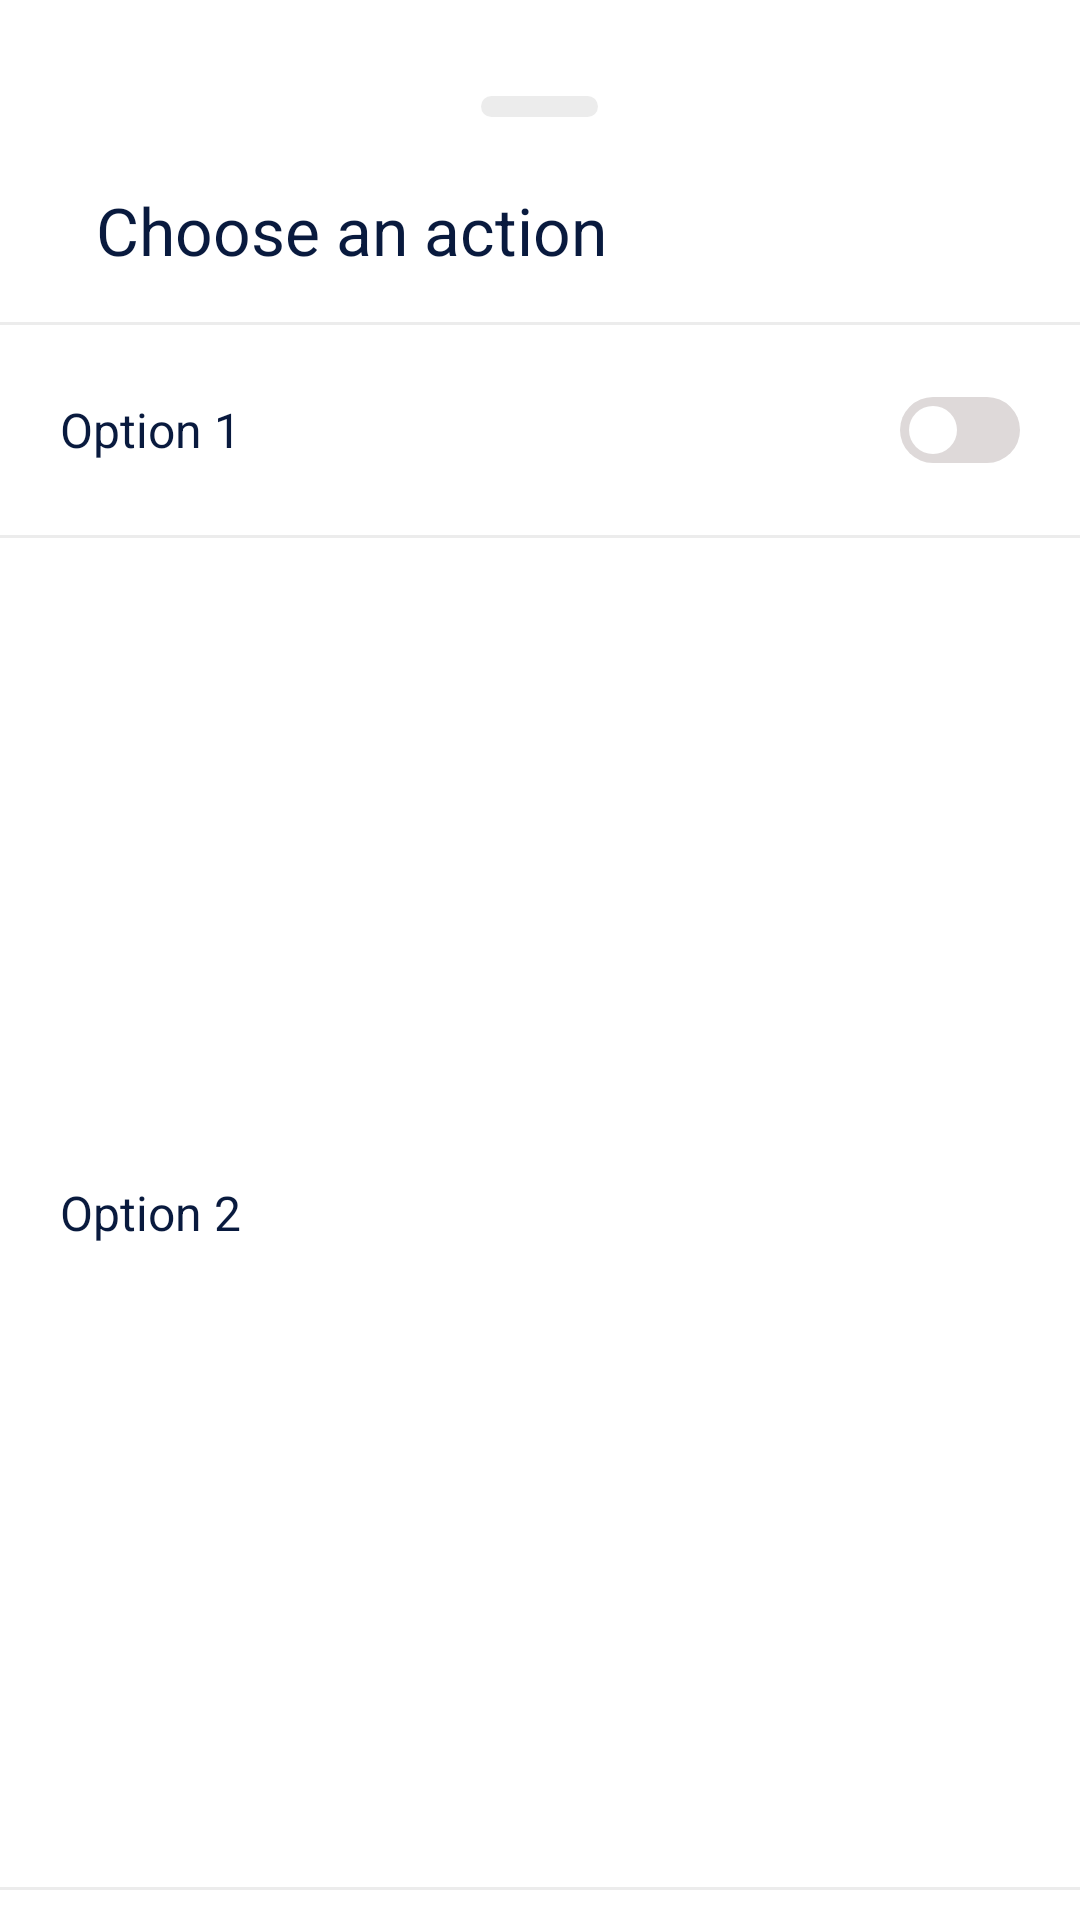

Where to tap for icons on this 1080w x 1920h app screen, as (x,y):
switch thumb: (960,430)
